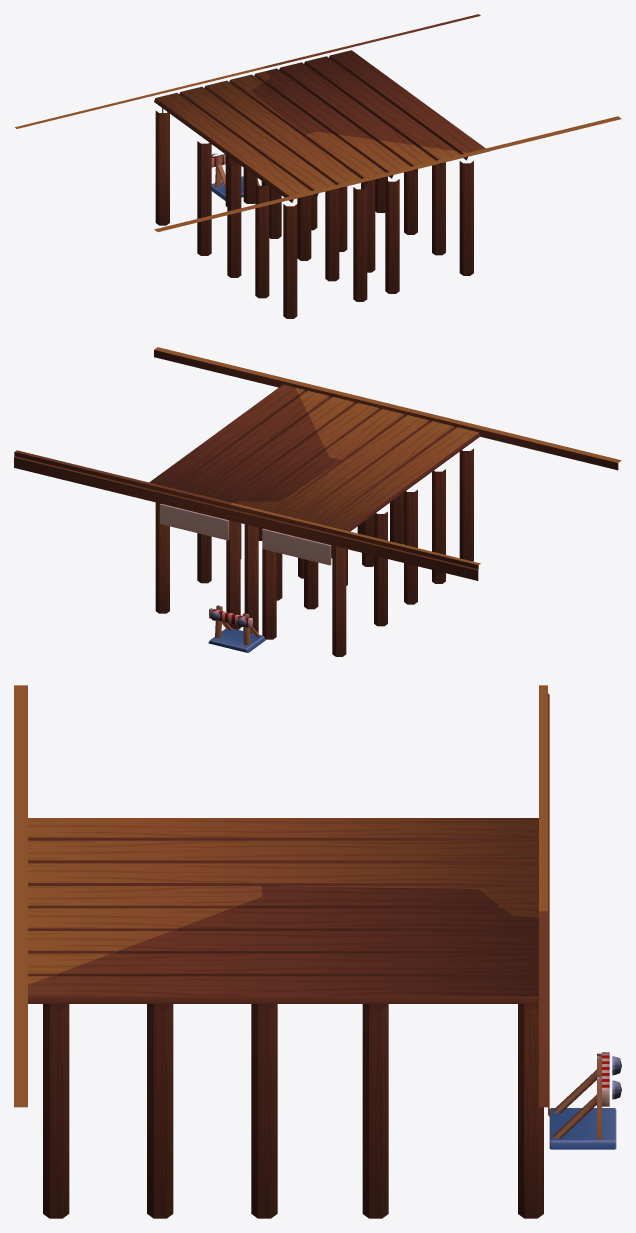
Rendered from 1.100_SanFrancisco_gates_sides.glb.
3 views of the same model, one above another, from view 1: azimuth 30°, elevation 25°; view 2: azimuth 150°, elevation 25°; view 3: azimuth 270°, elevation 25° (orthographic). The views are drawn at different scales.
Visible parts, largest first — view 1: 1.100_SanFrancisco_gates_sides; view 2: 1.100_SanFrancisco_gates_sides; view 3: 1.100_SanFrancisco_gates_sides.
Part boxes in pixels (bbox=[...]): 1.100_SanFrancisco_gates_sides: bbox=[15, 14, 621, 318]; 1.100_SanFrancisco_gates_sides: bbox=[14, 347, 621, 656]; 1.100_SanFrancisco_gates_sides: bbox=[14, 685, 621, 1218].
Bounding box in the file's own units: 214 × 56.06 × 130.
2 materials, 2 textured.
